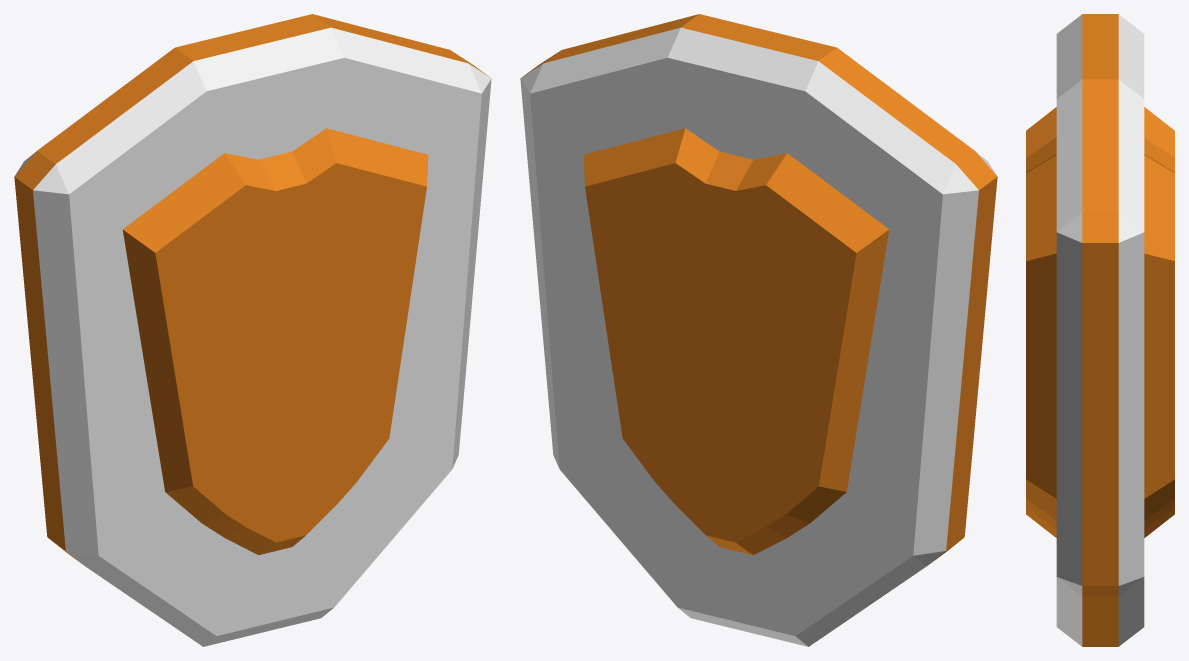
Rendered from Armadura02.fbx.
3 views of the same model, side by side, from view 1: azimuth 30°, elevation 25°; view 2: azimuth 150°, elevation 25°; view 3: azimuth 270°, elevation 25° (orthographic). The views are drawn at different scales.
Visible parts, largest first — view 1: Plane.008, Plane.009; view 2: Plane.008, Plane.009; view 3: Plane.008, Plane.009.
Part boxes in pixels (x1,y1,x2,y2): Plane.008: (14,14,491,646); Plane.009: (122,128,428,555); Plane.008: (520,14,997,646); Plane.009: (583,128,889,555); Plane.008: (1056,14,1144,646); Plane.009: (1026,107,1174,537).
Bounding box in the file's own units: 33.14 × 40.61 × 9.58.
